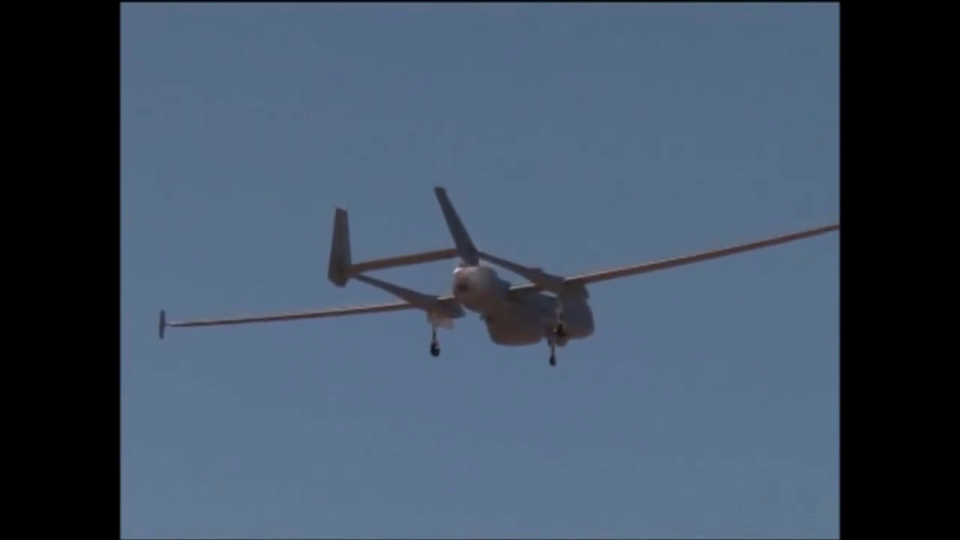military drone: (160, 185, 840, 365)
